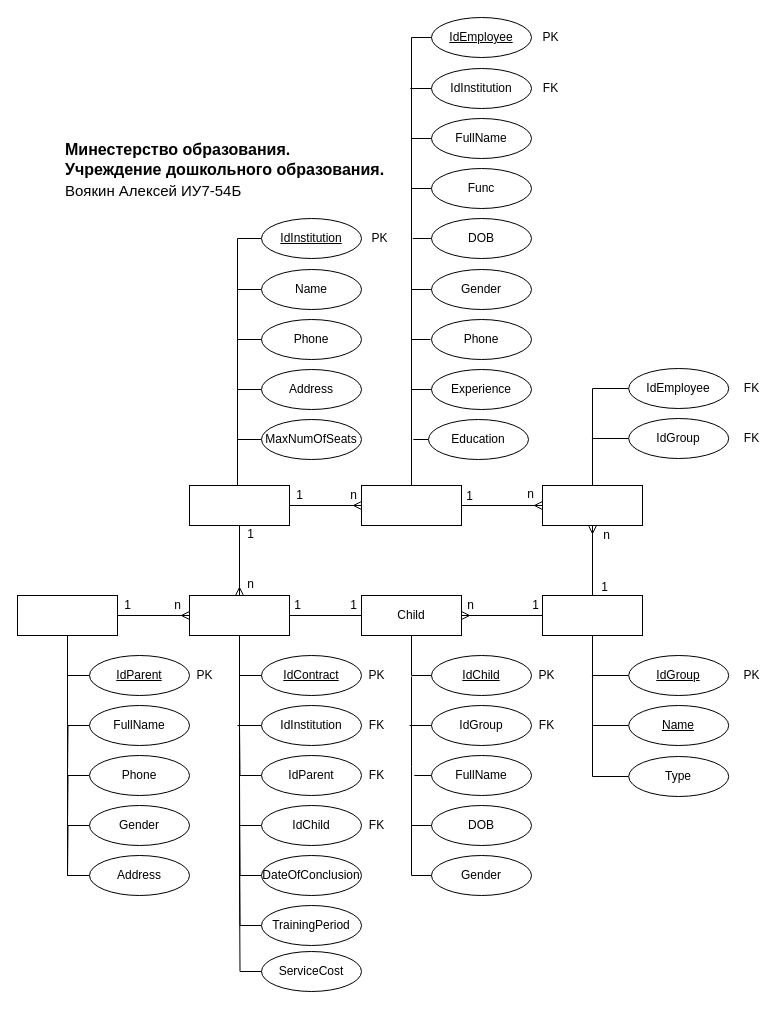
The diagram is 784 pixels wide and 1009 high, and some of its shapes have lost their labels. The shapes that lost their labels are listed below. From the top down, each one's centre as x and y in pixels, then its label:
At point (239, 505): "Institution".
At point (411, 505): "Employee".
At point (592, 505): "EmployeeGroup".
At point (67, 615): "Parent".
At point (239, 615): "Contract".
At point (592, 615): "Group".
